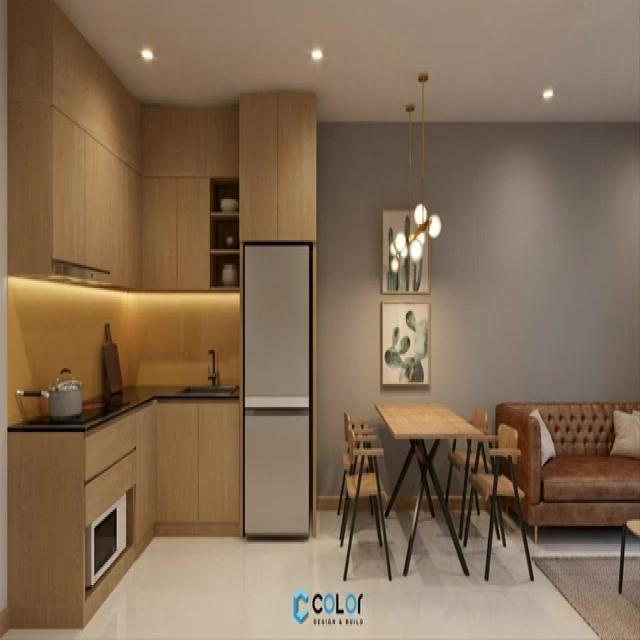obstacle: (241, 240, 312, 540), (494, 400, 639, 544), (374, 400, 486, 576), (142, 106, 240, 286), (238, 89, 317, 242), (156, 398, 239, 537), (340, 435, 394, 582)
